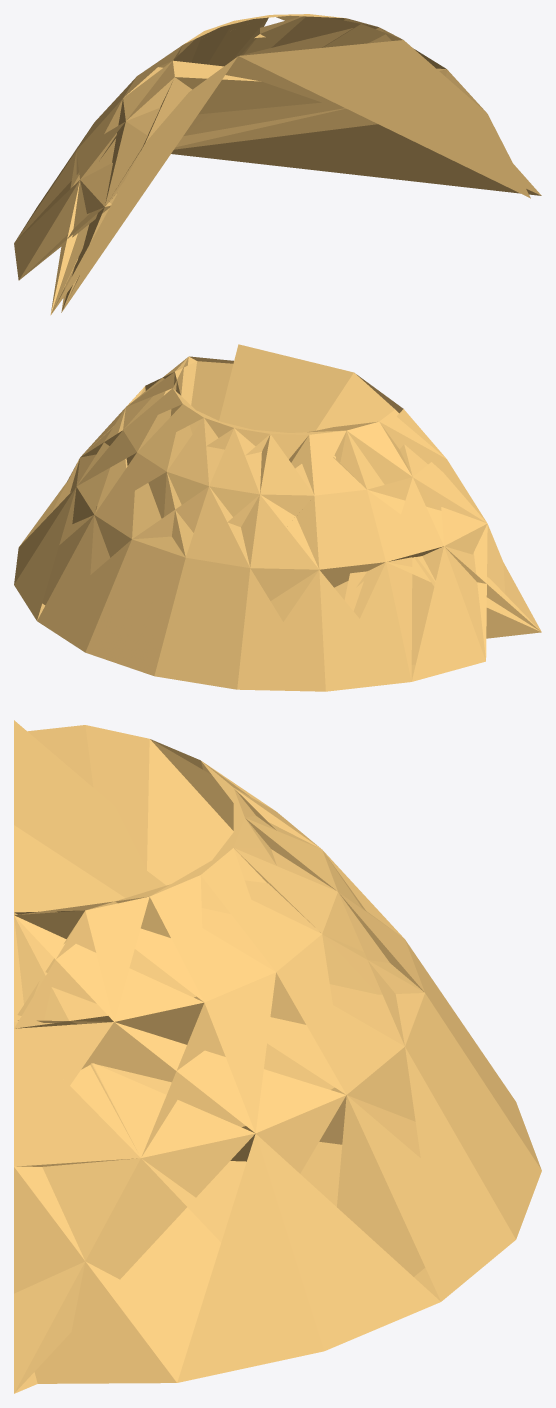
File: S.S._Dolphin_Bowsprit_4.001.obj
The picture shows the model from 3 angles, top to bottom: view 1: azimuth 30°, elevation 25°; view 2: azimuth 150°, elevation 25°; view 3: azimuth 270°, elevation 25°; orthographic projection. The views are drawn at different scales.
Visible parts, largest first — view 1: S.S._Dolphin_Bowsprit_4.001; view 2: S.S._Dolphin_Bowsprit_4.001; view 3: S.S._Dolphin_Bowsprit_4.001.
Part boxes in pixels (x1,y1,x2,y2): S.S._Dolphin_Bowsprit_4.001: (14, 14, 541, 315); S.S._Dolphin_Bowsprit_4.001: (14, 344, 541, 691); S.S._Dolphin_Bowsprit_4.001: (14, 720, 541, 1393).
Size of the model in its own units: 4.28 by 1.78 by 2.14.
